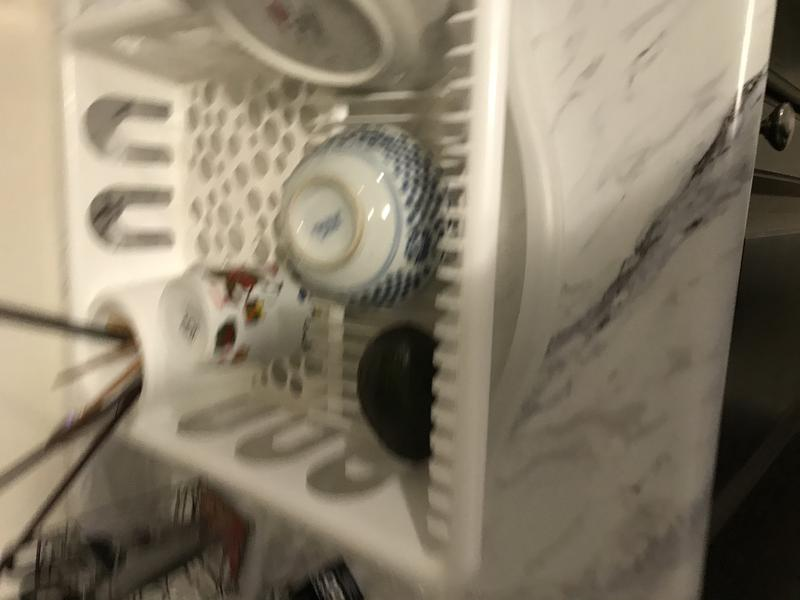avocado: (346, 320, 463, 474)
